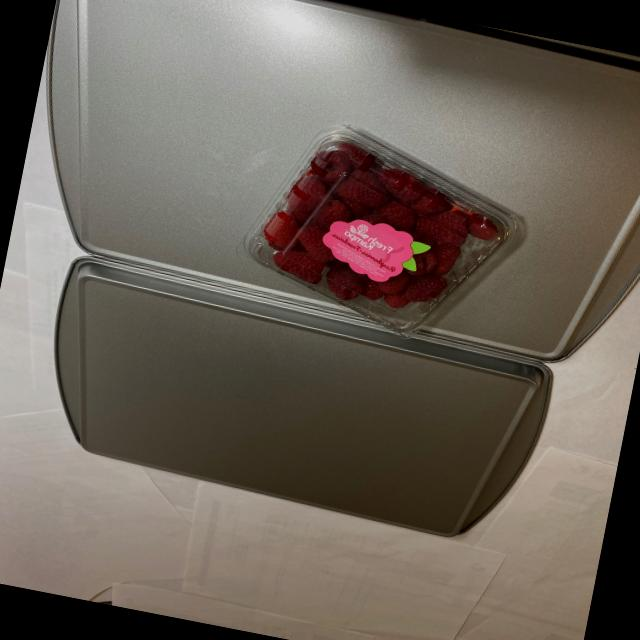raspberries: (255, 143, 512, 326)
